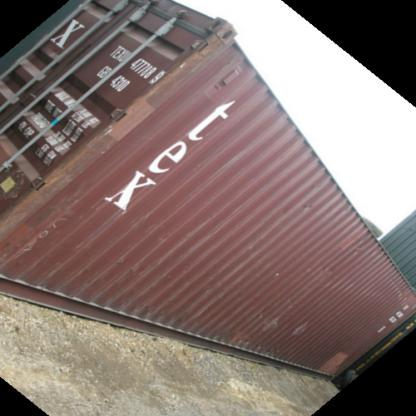Damage: (1, 189, 102, 264), (322, 258, 386, 304), (280, 192, 322, 222), (252, 300, 280, 336), (286, 311, 314, 346)
